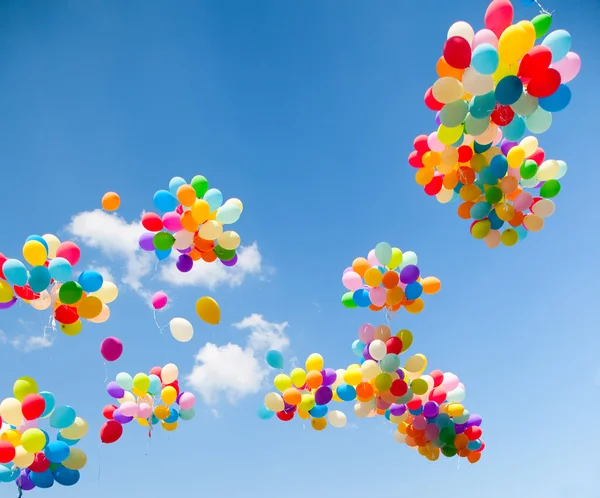Balloon: (499, 25, 527, 62), (520, 45, 551, 78), (443, 36, 472, 69), (485, 1, 513, 34), (528, 69, 560, 96), (471, 44, 498, 74), (463, 69, 494, 95), (432, 77, 464, 102), (495, 75, 522, 104), (2, 258, 28, 286), (440, 101, 468, 127), (544, 30, 569, 58), (555, 56, 581, 82), (472, 45, 497, 72), (527, 109, 552, 135), (196, 297, 220, 324), (48, 257, 73, 281), (469, 94, 495, 117), (1, 397, 22, 425), (22, 240, 46, 264), (50, 405, 75, 428), (54, 464, 80, 486), (170, 318, 193, 342), (21, 428, 45, 451), (101, 336, 123, 361), (22, 394, 44, 419), (100, 420, 123, 443), (14, 378, 38, 400), (77, 296, 101, 318), (28, 266, 49, 291), (44, 441, 70, 461), (59, 281, 82, 303), (216, 204, 240, 225), (78, 270, 102, 291), (154, 189, 177, 210), (63, 449, 87, 469), (55, 304, 80, 323), (198, 220, 221, 240), (492, 105, 513, 126), (537, 159, 558, 180), (217, 230, 240, 249), (30, 468, 53, 487), (191, 199, 209, 223), (438, 125, 462, 143), (490, 153, 508, 177), (503, 119, 523, 139), (142, 212, 163, 231), (174, 230, 195, 249), (264, 392, 285, 411), (539, 179, 560, 198), (177, 184, 195, 206), (374, 241, 391, 264), (101, 191, 120, 211), (327, 409, 347, 428), (495, 202, 515, 221), (161, 362, 178, 384), (115, 372, 134, 391), (265, 350, 284, 369), (342, 271, 362, 289), (400, 265, 420, 283), (369, 286, 387, 306), (154, 232, 175, 249), (520, 136, 537, 157), (532, 199, 554, 215), (133, 373, 148, 396), (163, 212, 182, 230), (306, 353, 324, 372), (337, 383, 356, 401), (406, 354, 425, 372), (364, 268, 382, 287), (369, 339, 386, 359), (524, 214, 544, 231), (405, 281, 423, 299), (514, 192, 532, 210), (458, 166, 476, 184), (362, 359, 379, 378), (471, 201, 490, 218), (416, 166, 433, 185), (387, 248, 402, 269), (459, 185, 481, 199), (283, 388, 301, 405), (353, 289, 370, 307), (473, 219, 490, 237), (501, 176, 519, 193), (360, 323, 376, 342), (507, 146, 523, 165), (120, 401, 140, 416), (390, 379, 407, 396), (382, 271, 399, 288), (422, 150, 439, 167), (176, 254, 192, 272), (179, 391, 195, 409), (386, 336, 402, 354), (410, 379, 428, 395), (422, 277, 440, 293), (273, 374, 292, 389), (426, 176, 441, 195), (345, 368, 362, 384), (424, 401, 440, 418), (440, 426, 456, 443), (387, 289, 403, 306), (486, 230, 502, 247), (485, 187, 502, 203), (161, 386, 176, 404), (107, 381, 123, 397), (502, 229, 518, 245), (291, 368, 306, 385), (356, 382, 373, 397), (441, 374, 458, 389), (424, 424, 439, 440), (353, 258, 369, 273), (152, 291, 166, 308), (354, 401, 371, 415), (389, 402, 406, 416), (438, 186, 452, 203), (412, 415, 427, 430), (471, 154, 486, 169), (322, 368, 336, 384), (444, 171, 458, 187), (447, 403, 464, 416), (465, 426, 482, 439), (155, 405, 170, 419), (312, 416, 327, 430), (139, 402, 152, 418), (458, 145, 471, 161), (455, 434, 468, 449), (179, 409, 195, 420)
